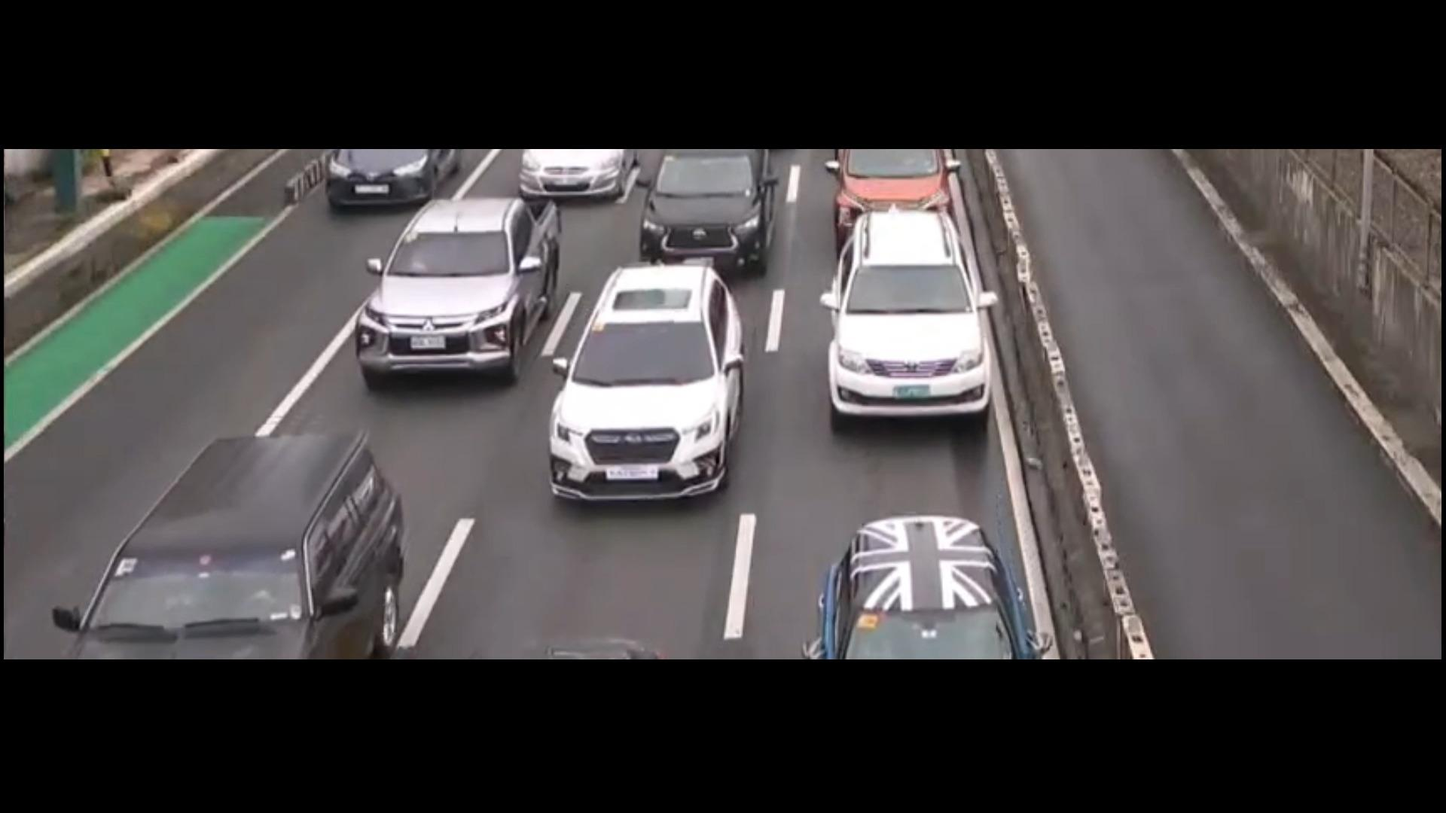SUV: (55, 427, 414, 653), (548, 262, 740, 502), (345, 203, 540, 386), (827, 213, 992, 425), (635, 149, 766, 260)
Sedan: (819, 521, 1039, 659)
